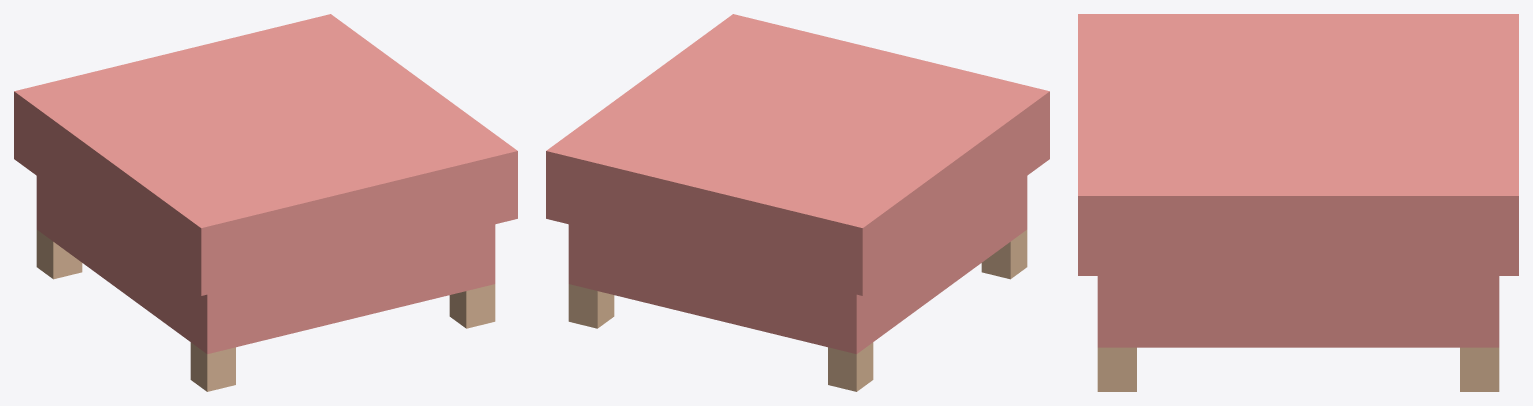
The model's file is loungesofaottoman.glb.
The picture shows the model from 3 angles, left to right: view 1: azimuth 30°, elevation 25°; view 2: azimuth 150°, elevation 25°; view 3: azimuth 270°, elevation 25°; orthographic projection. The views are drawn at different scales.
Parts seen in each view (by area): view 1: loungeSofaOttoman(Clone); view 2: loungeSofaOttoman(Clone); view 3: loungeSofaOttoman(Clone).
Part boxes in pixels (x1=…): loungeSofaOttoman(Clone): x1=14, y1=14, x2=517, y2=391; loungeSofaOttoman(Clone): x1=546, y1=14, x2=1049, y2=391; loungeSofaOttoman(Clone): x1=1078, y1=14, x2=1518, y2=391.
Bounding box in the file's own units: 0.4398 × 0.23 × 0.45.
